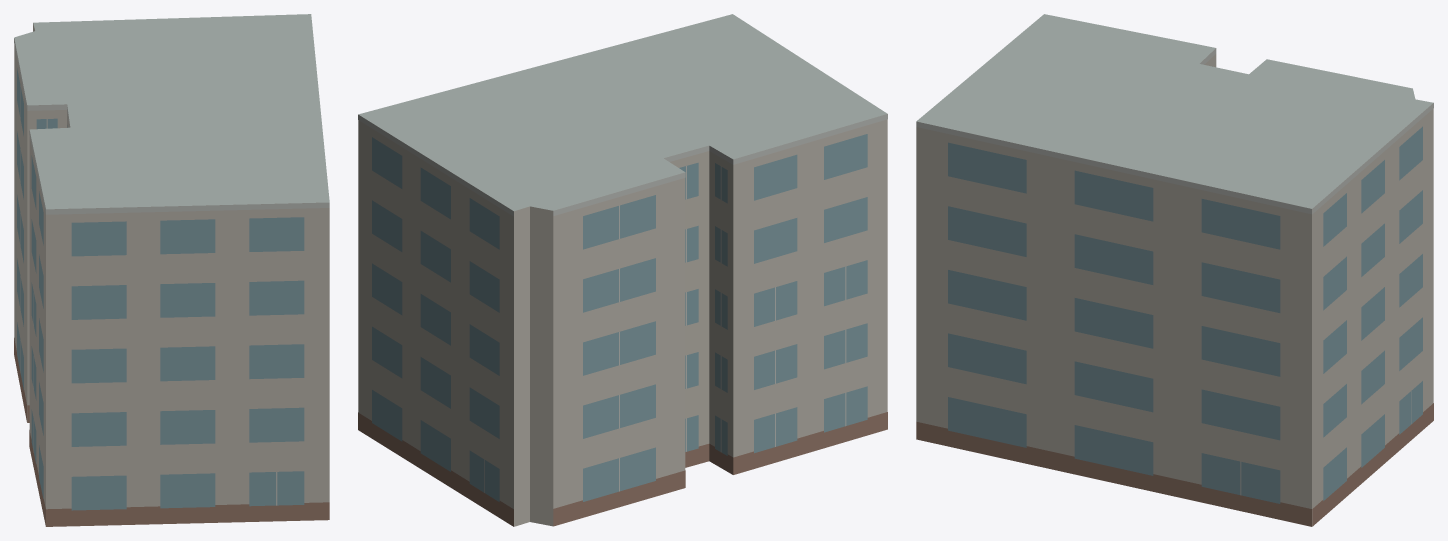
Rendered from survey-upis-32745132.glb.
3 renders of one model, left to right at view 1: azimuth 30°, elevation 25°; view 2: azimuth 150°, elevation 25°; view 3: azimuth 270°, elevation 25°, orthographic.
Parts seen in each view (by area): view 1: survey-upis-32745132.tmp; view 2: survey-upis-32745132.tmp; view 3: survey-upis-32745132.tmp.
Part boxes in pixels (x1,y1,x2,y2): survey-upis-32745132.tmp: (14, 14, 329, 526); survey-upis-32745132.tmp: (358, 14, 887, 526); survey-upis-32745132.tmp: (916, 14, 1433, 526).
Bounding box in the file's own units: 18.68 × 14.2 × 20.96.
